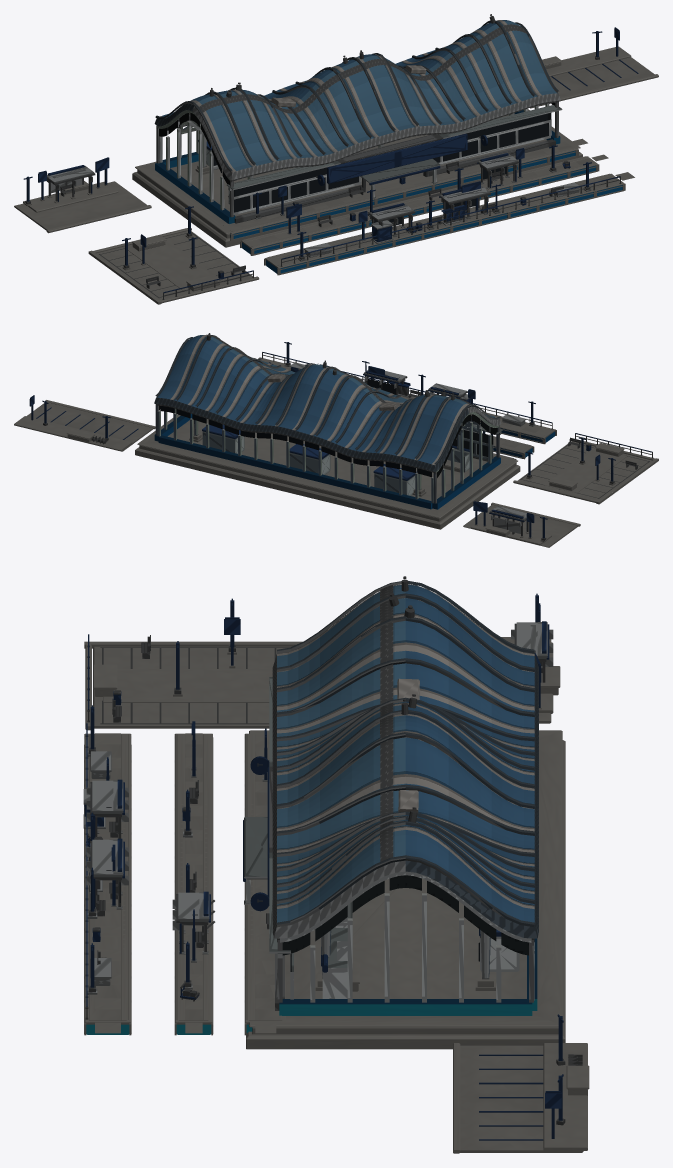
Rendered from southern-cross.glb.
3 views of the same model, one above another, from view 1: azimuth 30°, elevation 25°; view 2: azimuth 150°, elevation 25°; view 3: azimuth 270°, elevation 25° (orthographic). The views are drawn at different scales.
Visible parts, largest first — view 1: fringe:southern-cross-roof-shell, fringe:southern-cross-forecourts, fringe:southern-cross-platforms, fringe:southern-cross-frontage, fringe:southern-cross-platform-furniture, fringe:southern-cross-hall-frame, fringe:southern-cross-hall-base, fringe:southern-cross-roof-plant, fringe:southern-cross-concourse; view 2: fringe:southern-cross-roof-shell, fringe:southern-cross-forecourts, fringe:southern-cross-hall-frame, fringe:southern-cross-hall-base, fringe:southern-cross-concourse, fringe:southern-cross-platform-furniture, fringe:southern-cross-platforms, fringe:southern-cross-roof-plant, fringe:southern-cross-frontage; view 3: fringe:southern-cross-roof-shell, fringe:southern-cross-forecourts, fringe:southern-cross-platforms, fringe:southern-cross-hall-base, fringe:southern-cross-concourse, fringe:southern-cross-hall-frame, fringe:southern-cross-platform-furniture, fringe:southern-cross-roof-plant, fringe:southern-cross-frontage.
Boxes of the visible parts, <box> form: fringe:southern-cross-roof-shell: <box>154,20,560,180</box>; fringe:southern-cross-forecourts: <box>14,27,658,304</box>; fringe:southern-cross-platforms: <box>220,138,634,275</box>; fringe:southern-cross-frontage: <box>226,105,562,223</box>; fringe:southern-cross-platform-furniture: <box>253,145,621,266</box>; fringe:southern-cross-hall-frame: <box>155,100,560,223</box>; fringe:southern-cross-hall-base: <box>132,109,582,247</box>; fringe:southern-cross-roof-plant: <box>199,14,527,113</box>; fringe:southern-cross-concourse: <box>170,115,546,216</box>; fringe:southern-cross-roof-shell: <box>154,335,501,471</box>; fringe:southern-cross-forecourts: <box>14,395,658,547</box>; fringe:southern-cross-hall-frame: <box>154,404,500,509</box>; fringe:southern-cross-hall-base: <box>135,414,520,529</box>; fringe:southern-cross-concourse: <box>167,419,487,500</box>; fringe:southern-cross-platform-furniture: <box>91,342,552,444</box>; fringe:southern-cross-platforms: <box>254,357,556,466</box>; fringe:southern-cross-roof-plant: <box>206,333,470,410</box>; fringe:southern-cross-frontage: <box>452,424,502,461</box>; fringe:southern-cross-roof-shell: <box>272,581,538,938</box>; fringe:southern-cross-forecourts: <box>84,593,589,1153</box>; fringe:southern-cross-platforms: <box>84,733,285,1035</box>; fringe:southern-cross-hall-base: <box>246,730,565,1049</box>; fringe:southern-cross-concourse: <box>286,878,526,998</box>; fringe:southern-cross-hall-frame: <box>277,871,537,1015</box>; fringe:southern-cross-platform-furniture: <box>83,705,582,1065</box>; fringe:southern-cross-roof-plant: <box>380,576,419,861</box>; fringe:southern-cross-frontage: <box>243,677,293,1010</box>.
Size of the model in its own units: 98.4 by 18.37 by 40.81.
Materials: 7 (7 with a texture image).
